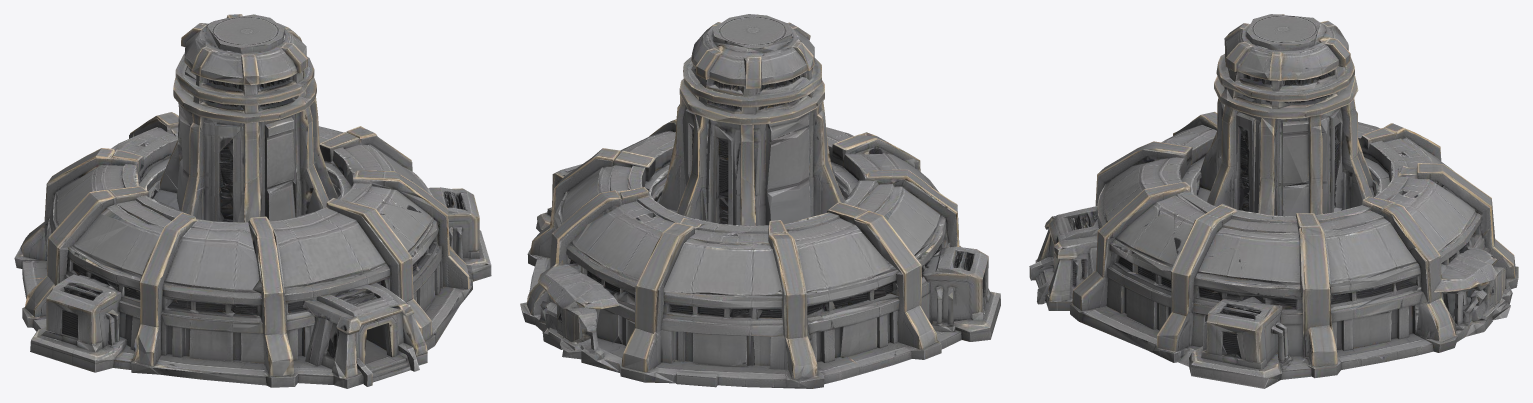
Rendered from imperial_power_plant_lod1.glb.
The picture shows the model from 3 angles, left to right: view 1: azimuth 30°, elevation 25°; view 2: azimuth 150°, elevation 25°; view 3: azimuth 270°, elevation 25°; orthographic projection. The views are drawn at different scales.
Parts seen in each view (by area): view 1: mesh_node; view 2: mesh_node; view 3: mesh_node.
Boxes of the visible parts, bbox=[...] form: mesh_node: bbox=[14, 14, 491, 388]; mesh_node: bbox=[520, 14, 1000, 388]; mesh_node: bbox=[1029, 14, 1518, 388].
Bounding box in the file's own units: 30.46 × 16.72 × 29.27.
Materials: 1 (1 with a texture image).
